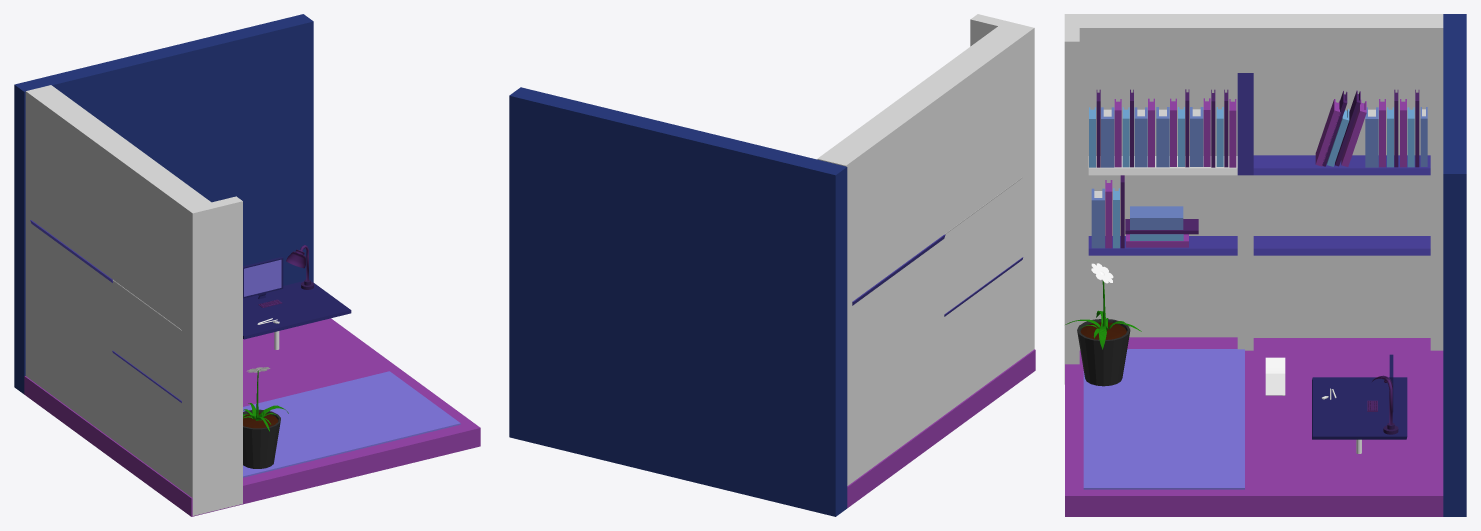
Rendered from Project1-7.glb.
3 views of the same model, side by side, from view 1: azimuth 30°, elevation 25°; view 2: azimuth 150°, elevation 25°; view 3: azimuth 270°, elevation 25° (orthographic). The views are drawn at different scales.
Parts seen in each view (by area): view 1: Floor.001, Floor.002, Floor, Plane.001, Plane, Cylinder.003, Cube.001, Floor.003; view 2: Floor.002, Floor.001, Floor, Floor.003; view 3: Floor.001, Floor, Plane.001, Floor.002, Floor.003, Plane, Cylinder.003, Cube.036, Cube.004, Cube.008, Cube.011, Cube.030 (+22 smaller).
Boxes of the visible parts, left/top/right/bottom form: Floor.001: left=25, top=85, right=242, bottom=515; Floor.002: left=14, top=14, right=313, bottom=394; Floor: left=24, top=318, right=480, bottom=516; Plane.001: left=243, top=371, right=460, bottom=477; Plane: left=243, top=281, right=351, bottom=339; Cylinder.003: left=243, top=409, right=280, bottom=468; Cube.001: left=243, top=257, right=283, bottom=299; Floor.003: left=30, top=220, right=181, bottom=402; Floor.002: left=509, top=87, right=847, bottom=516; Floor.001: left=817, top=14, right=1034, bottom=485; Floor: left=847, top=349, right=1035, bottom=507; Floor.003: left=852, top=234, right=1023, bottom=316; Floor.001: left=1064, top=14, right=1443, bottom=384; Floor: left=1065, top=337, right=1443, bottom=516; Plane.001: left=1083, top=349, right=1244, bottom=489; Floor.002: left=1443, top=14, right=1466, bottom=516; Floor.003: left=1088, top=73, right=1430, bottom=255; Plane: left=1312, top=377, right=1407, bottom=439; Cylinder.003: left=1077, top=319, right=1130, bottom=386; Cube.036: left=1130, top=206, right=1183, bottom=229; Cube.004: left=1101, top=107, right=1114, bottom=167; Cube.008: left=1134, top=107, right=1147, bottom=167; Cube.011: left=1156, top=107, right=1169, bottom=167; Cube.030: left=1091, top=188, right=1104, bottom=248.
Size of the model in its own units: 8 by 8.02 by 8.5.
